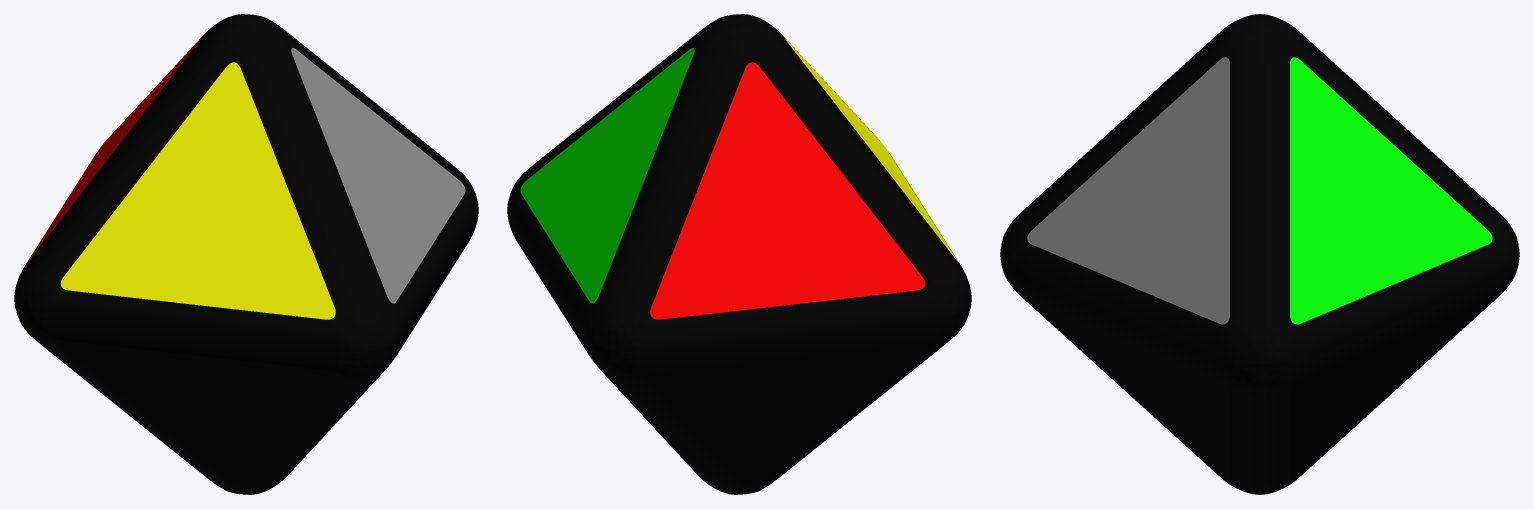
3 views of the same model, side by side, from view 1: azimuth 30°, elevation 25°; view 2: azimuth 150°, elevation 25°; view 3: azimuth 270°, elevation 25° (orthographic).
Visible parts, largest first — view 1: up; view 2: up; view 3: up.
Boxes of the visible parts, <box> form: up: <box>14,14,478,494</box>; up: <box>507,14,971,494</box>; up: <box>1000,14,1519,494</box>.
Bounding box in the file's own units: 174 × 174 × 174.
